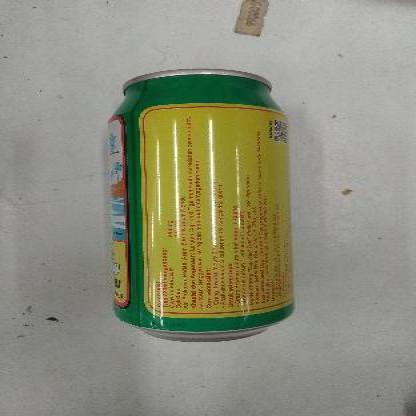alumunium_can: (110, 68, 298, 345)
